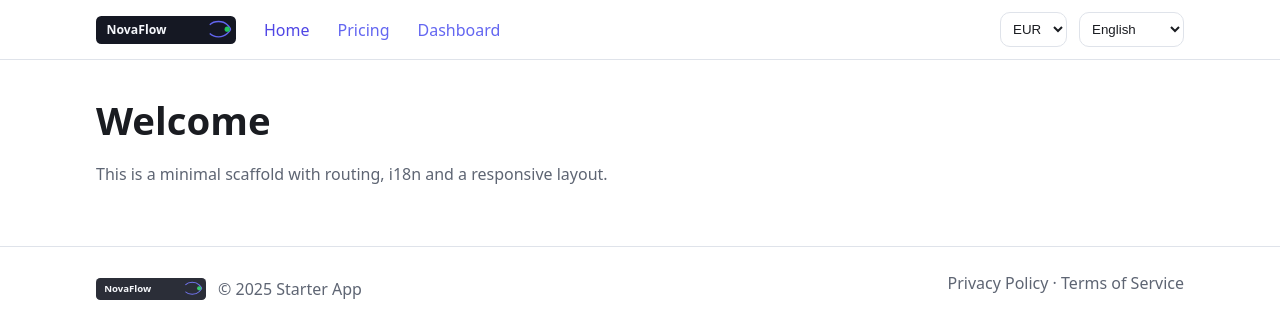
LanguageSwitcher › changes language and persists selection
The width and height of the screenshot is (1280, 317).
Check: the heading "Welcome" is shown, box [96,94,271,146]
Step 1. Select "Italiano" in the dropdown named "language switcher" → (1132, 30), box [1079,12,1184,47]
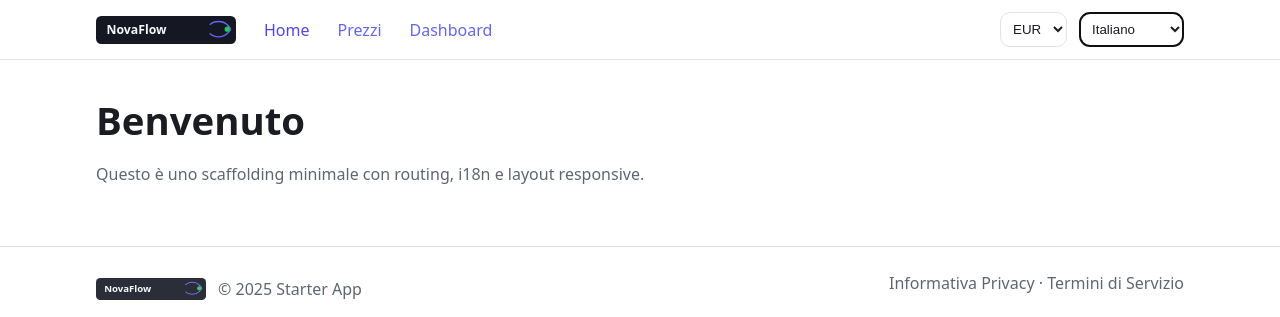
Check: the heading "Benvenuto" is shown, box [96,94,305,146]
